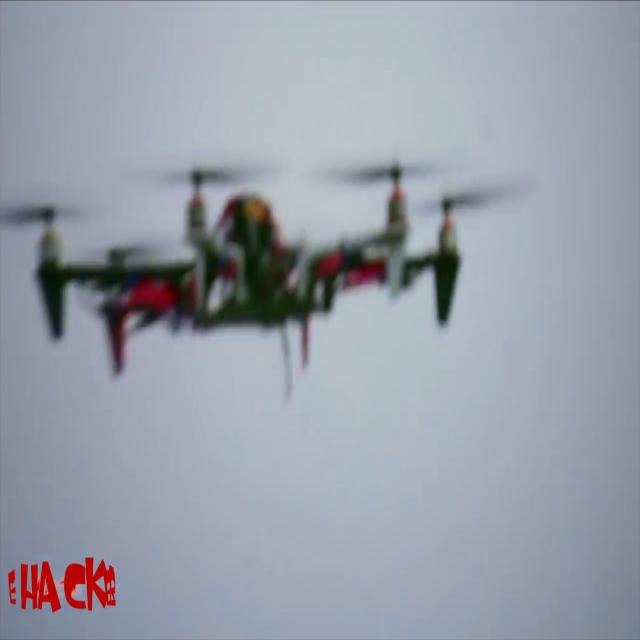drone: (16, 131, 544, 399)
